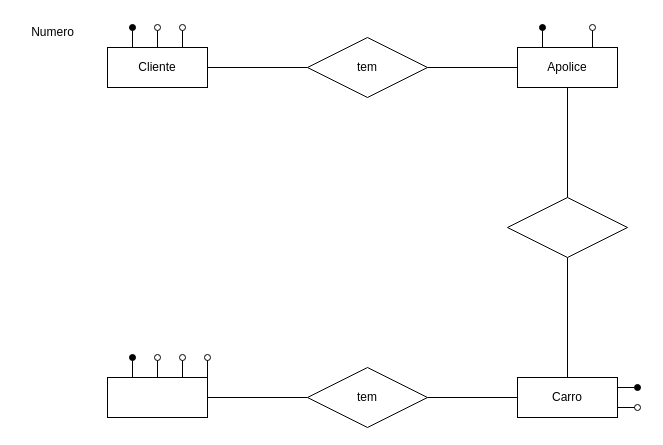
The diagram is 663 pixels wide and 445 high, and some of its shapes have lost their labels. Here are the shapes that lost their labels. From the top down, the centre of each, then its label:
At (567,227): "Cobre".
At (157,397): "Acidente".
